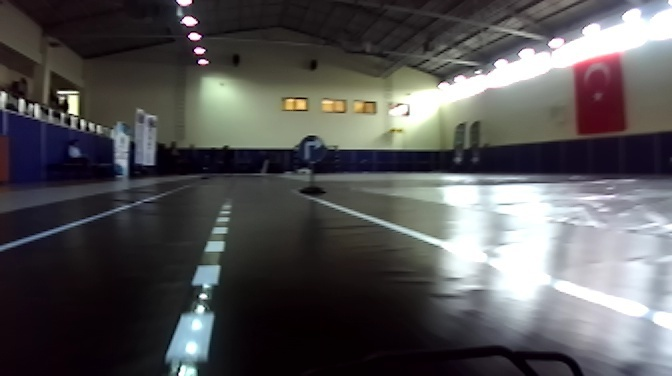saga_donus: (296, 134, 328, 166)
